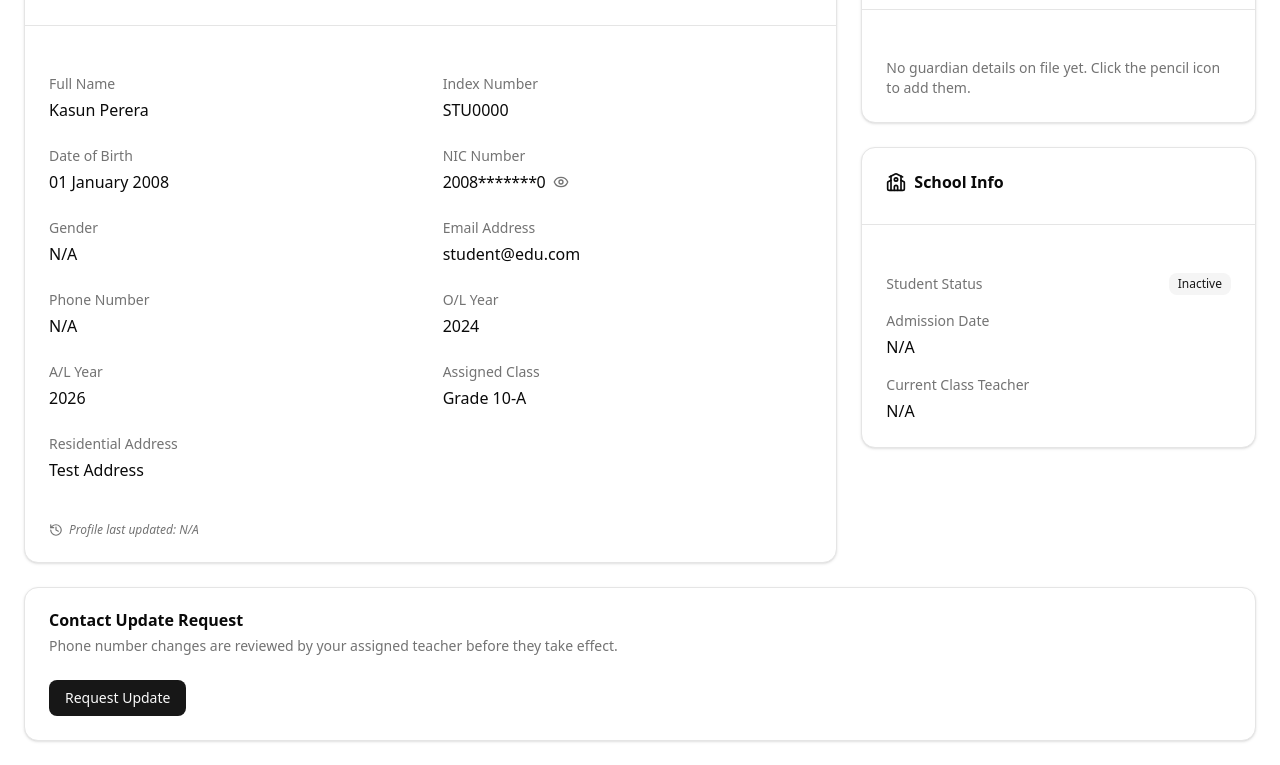
Test: StudentProfilePage — submitting a request › shows the Pending Request alert with the requested value, and disables further submission
(page scrolled)
Click the button "Request Update" at (118,698), box [49,680,186,716]
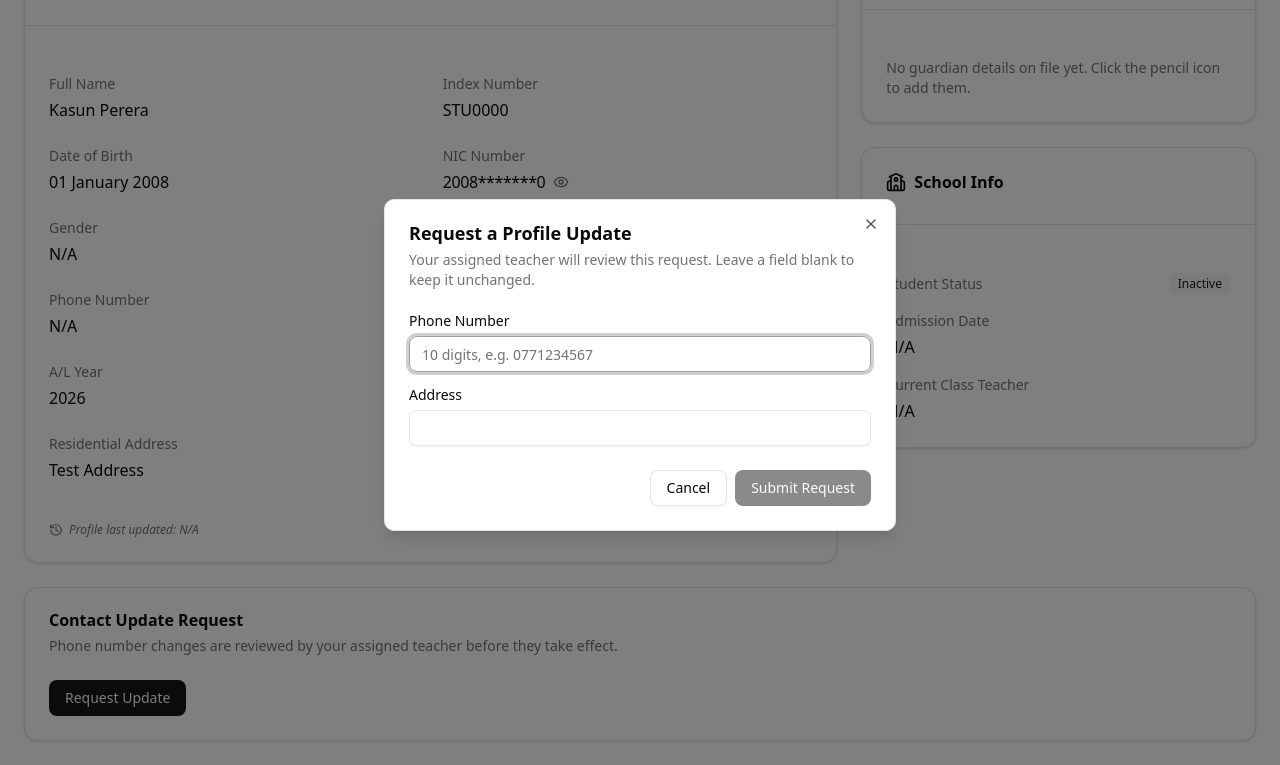
Type "0719999999" into the field labelled "Phone Number" at (640,354), box [409,336,871,372]
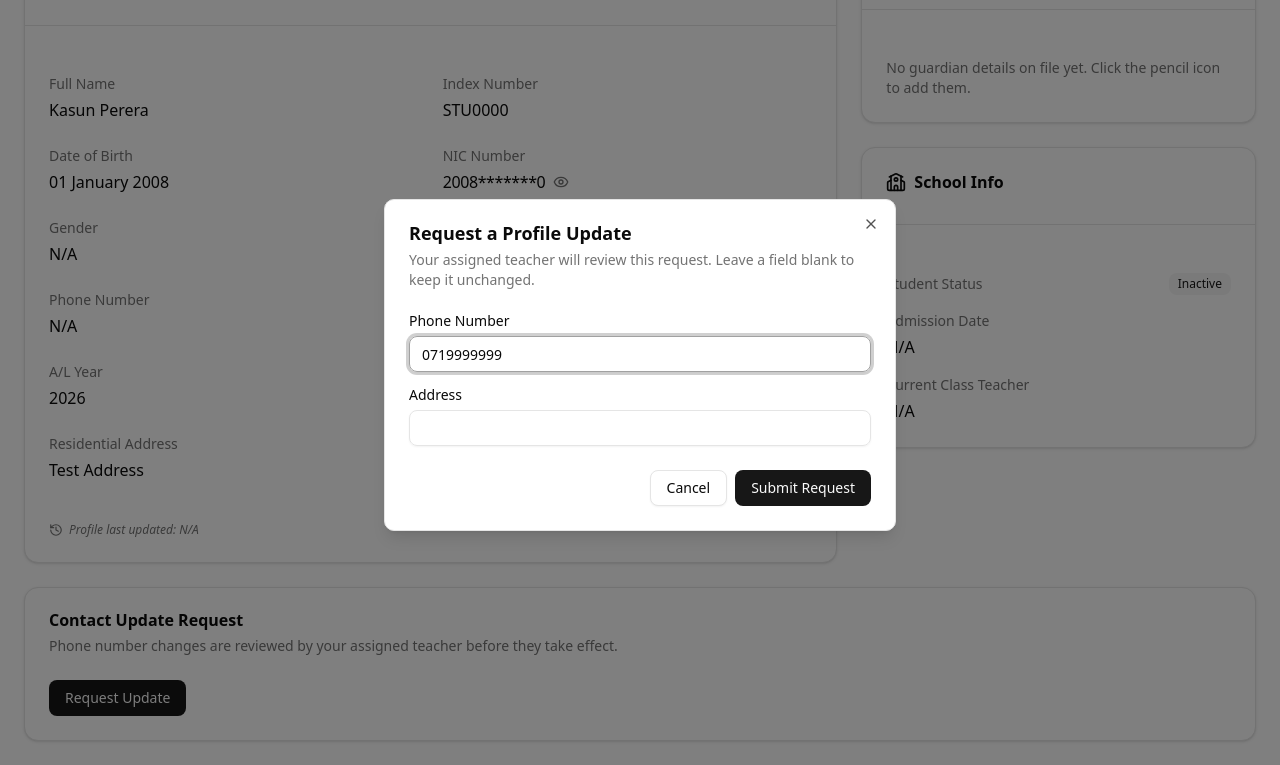
Click the button "Submit Request" at (803,488), box [735,470,871,506]
(page scrolled)
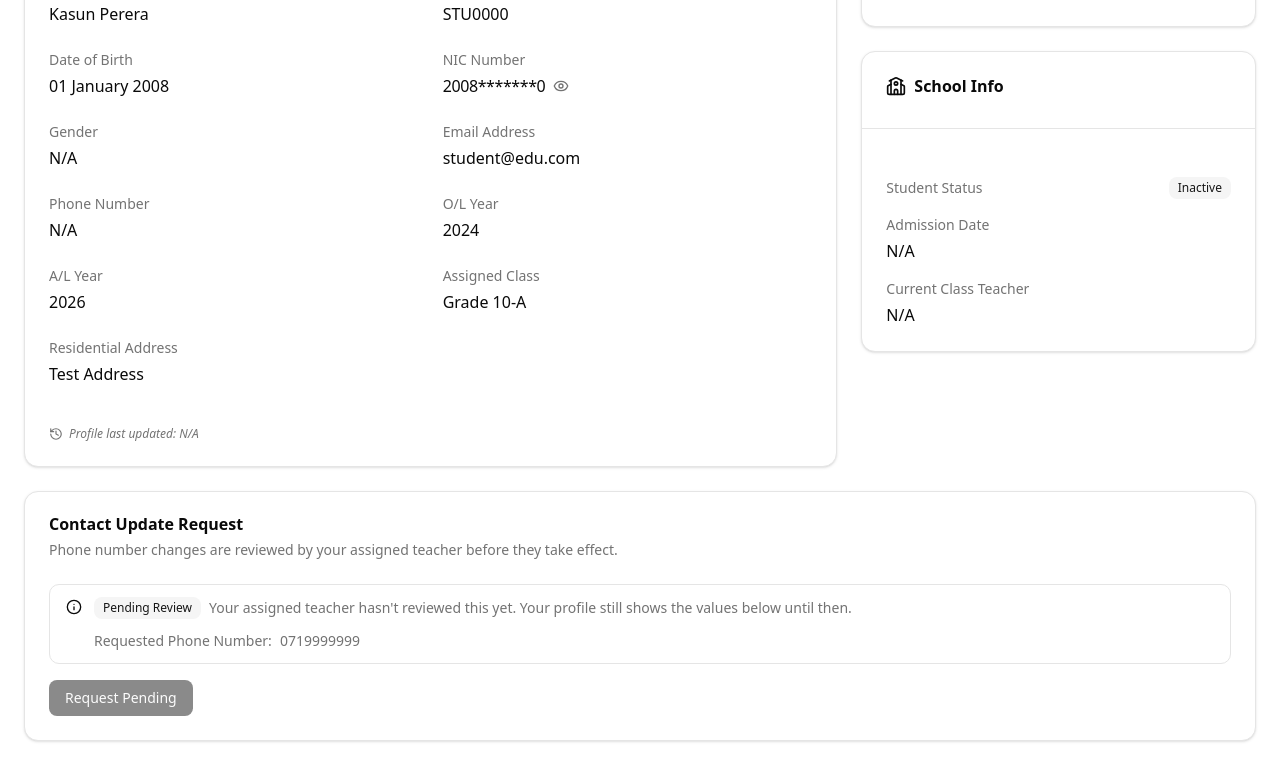
Now the heading "Request a Profile Update" is gone
Now the text "Pending Review" is shown, box [94,597,201,619]
Now the text "Requested Phone Number:" is shown, box [94,631,272,651]
